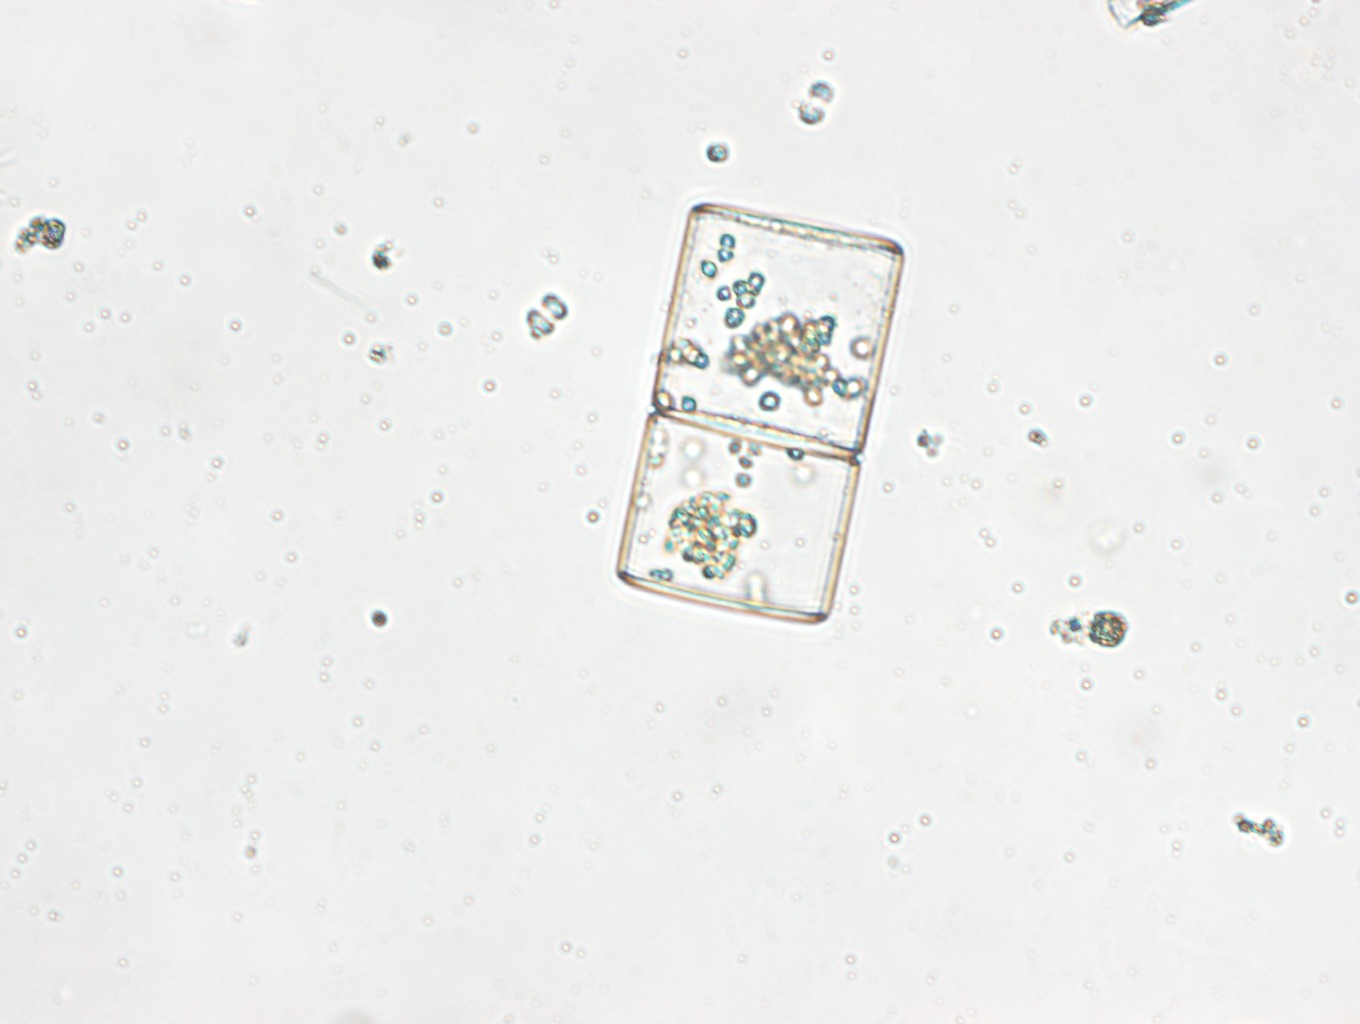guinardia flaccida: (614, 201, 906, 626)
